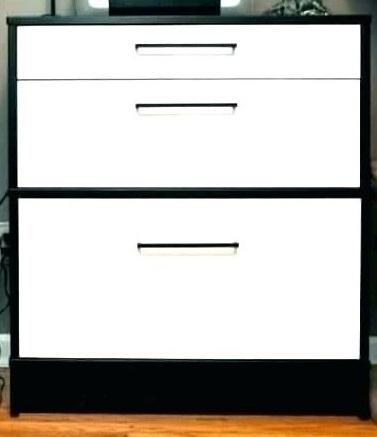cabinet_door: (19, 199, 360, 360), (20, 81, 359, 187), (19, 23, 362, 76)
handle: (133, 98, 242, 121), (133, 236, 241, 259), (133, 39, 241, 62)
